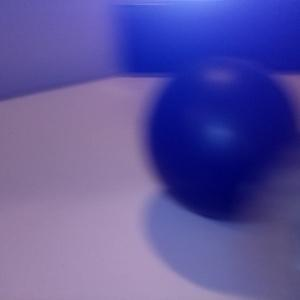dead_ball: (146, 58, 300, 221)
